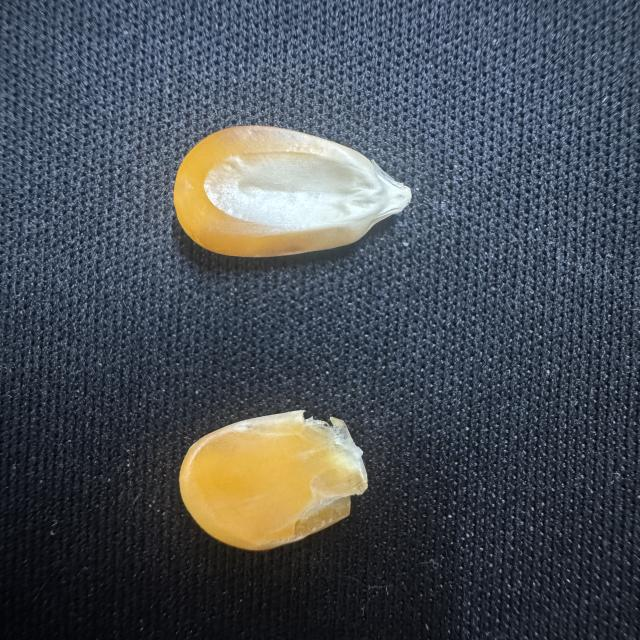Bad-Seed: (164, 404, 378, 555)
Good-Seed: (161, 119, 431, 267)
